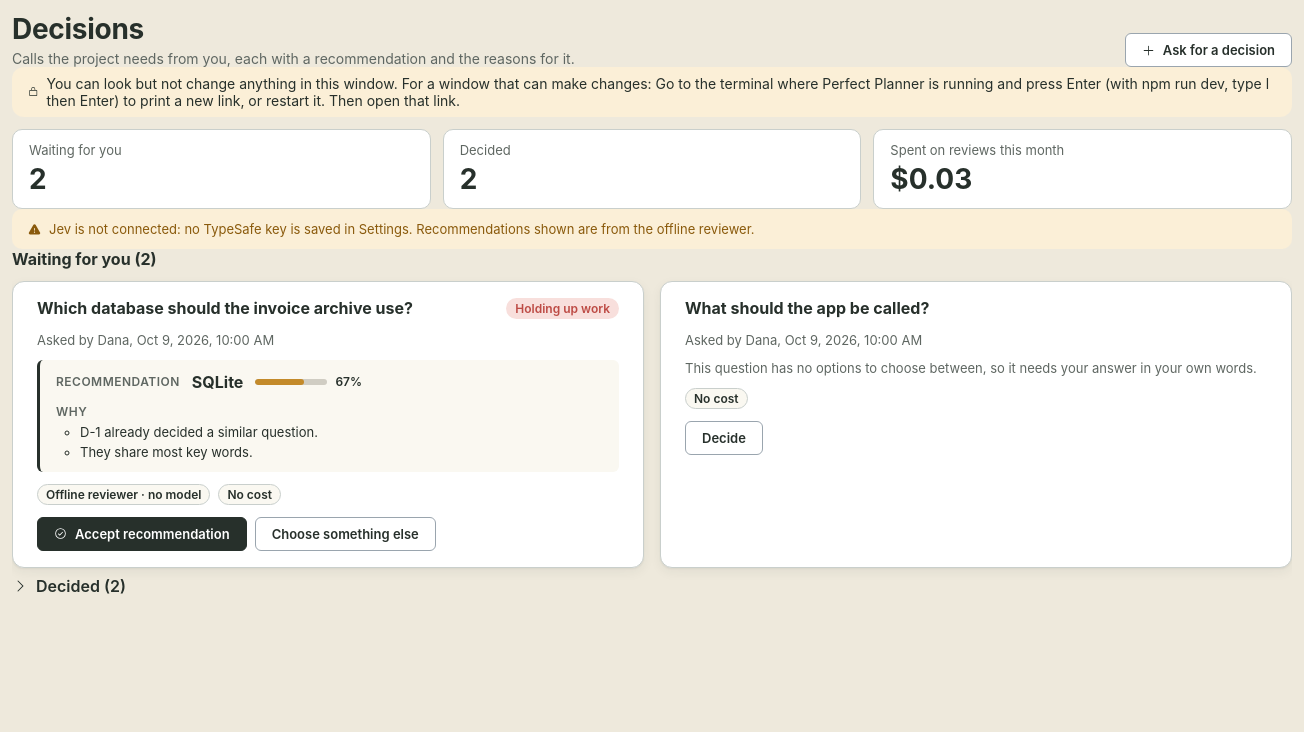
it: DecisionsScreen › a refused save shows the server's message
The image size is (1304, 732).
Click the button "Accept recommendation" at (142, 534), box [37, 517, 247, 551]
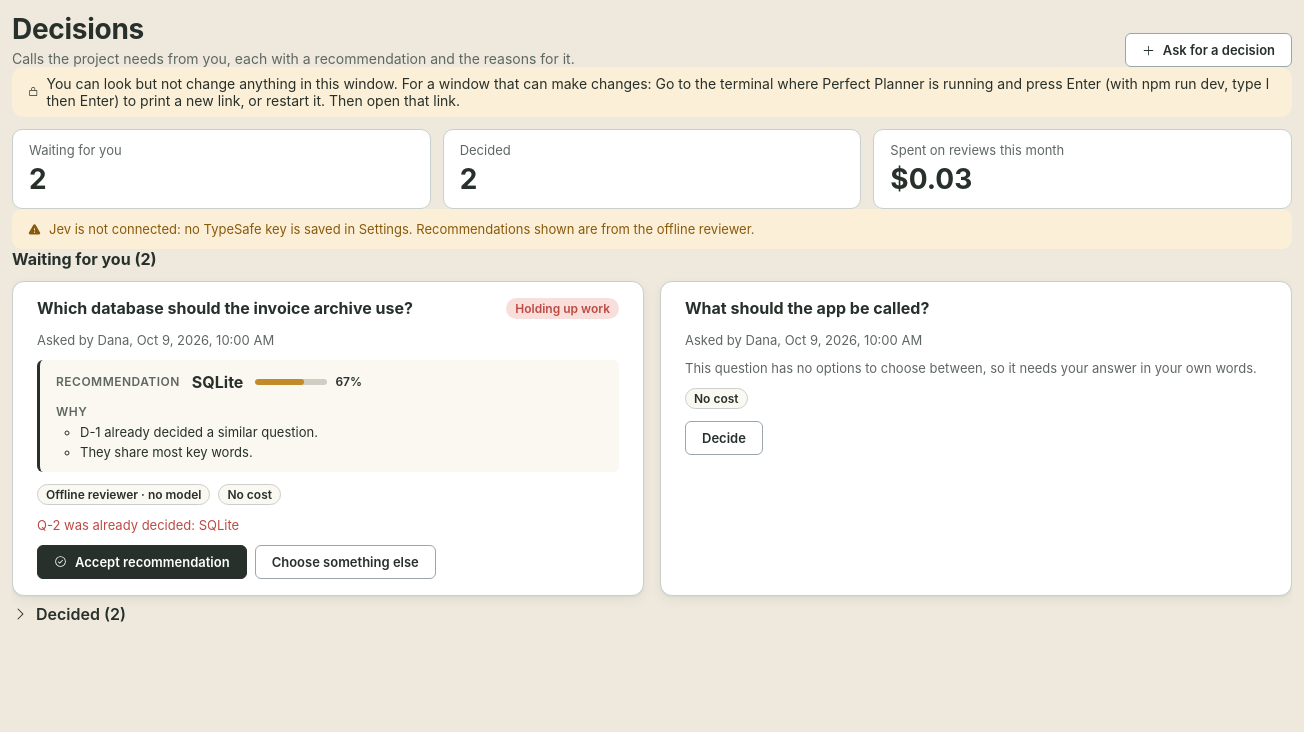
Expected: the text "Q-2 was already decided: SQLite" is shown, [37, 517, 239, 533]
